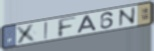6: (99, 11, 114, 30)
A: (76, 14, 98, 34)
F: (56, 16, 78, 39)
I: (43, 20, 49, 40)
N: (118, 6, 138, 29)
X: (15, 22, 39, 45)
